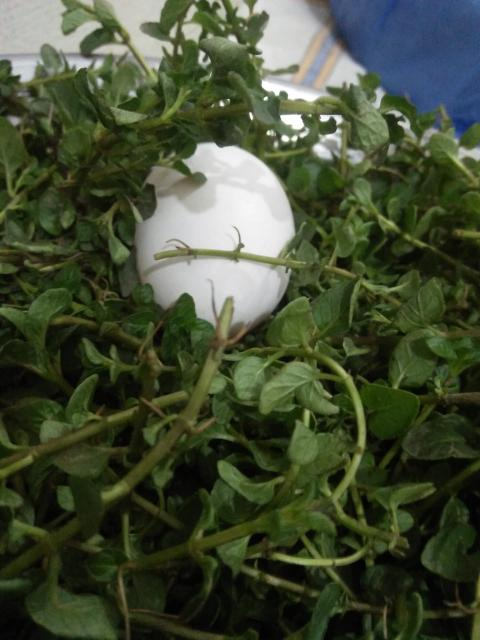Sano: (139, 140, 295, 331)
